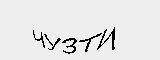А: (73, 21, 97, 41)
Д: (114, 20, 135, 41)
Е: (22, 20, 39, 35)
К: (98, 20, 118, 41)
Э: (54, 22, 76, 39)
Ұ: (38, 21, 55, 35)
